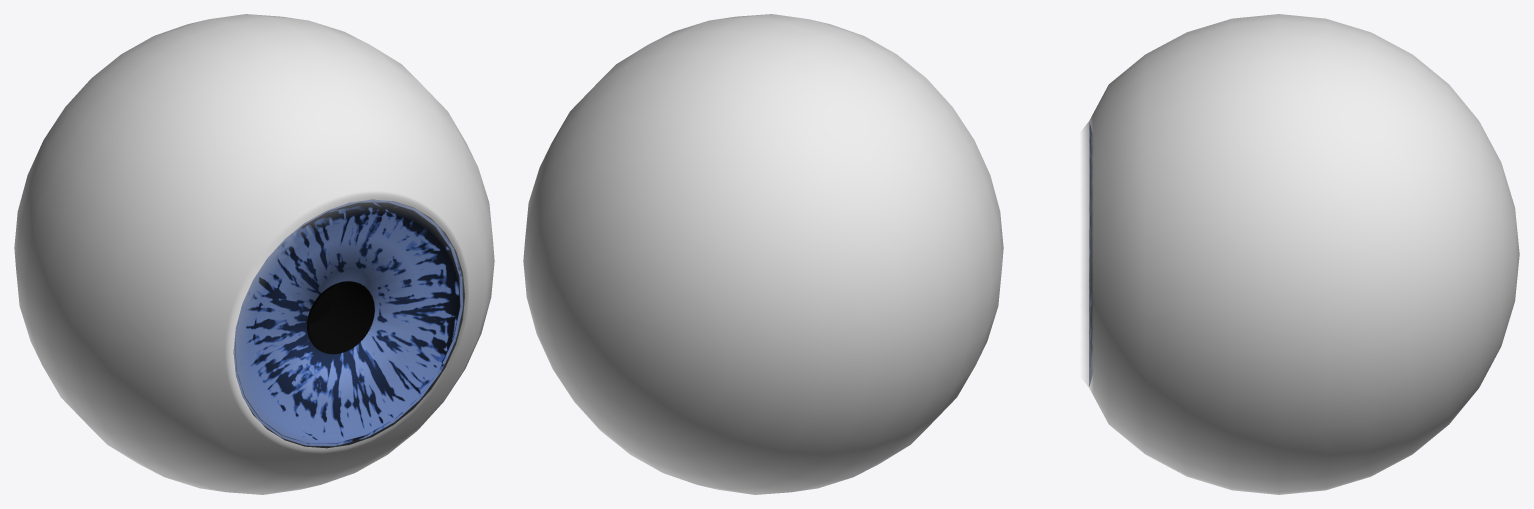
3 renders of one model, left to right at view 1: azimuth 30°, elevation 25°; view 2: azimuth 150°, elevation 25°; view 3: azimuth 270°, elevation 25°, orthographic.
Parts seen in each view (by area): view 1: object 1, Iris; view 2: object 1; view 3: object 1, Iris.
Boxes of the visible parts, <box> form: object 1: <box>14,14,494,494</box>; Iris: <box>233,199,464,448</box>; object 1: <box>523,14,1003,494</box>; object 1: <box>1082,14,1519,494</box>; Iris: <box>1089,122,1092,386</box>.
Bounding box in the file's own units: 2 × 2 × 2.02.
3 materials, 3 textured.
